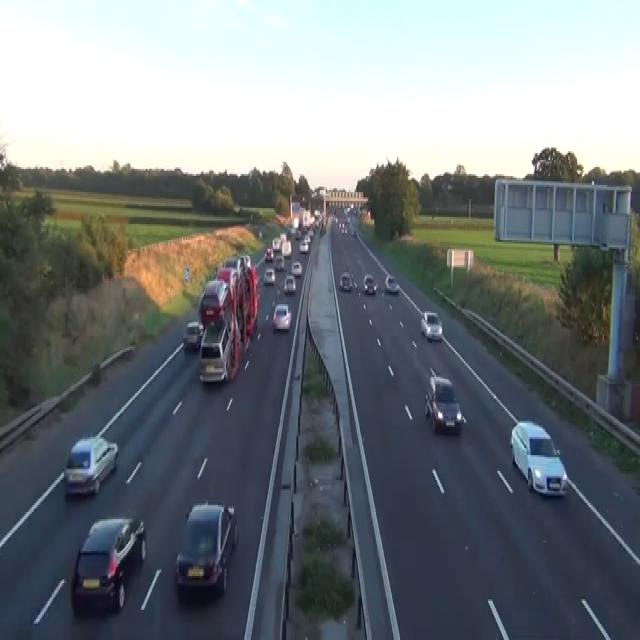Car: (71, 516, 146, 614), (175, 500, 238, 596), (509, 420, 567, 498), (63, 434, 119, 496), (424, 375, 466, 436), (198, 315, 232, 382), (198, 277, 229, 327), (424, 373, 452, 418), (420, 311, 442, 341), (183, 320, 203, 350), (272, 304, 291, 331), (216, 266, 235, 284), (384, 274, 399, 293), (363, 274, 377, 293), (283, 274, 296, 293), (237, 254, 251, 270), (339, 272, 351, 290), (263, 266, 275, 284), (281, 240, 292, 258), (91, 361, 100, 382), (290, 262, 302, 276), (223, 256, 237, 268), (123, 345, 135, 359), (275, 254, 284, 270), (271, 237, 281, 250), (264, 247, 273, 261), (299, 240, 308, 252), (319, 222, 326, 235), (302, 233, 310, 242), (294, 228, 300, 238), (280, 233, 286, 242), (341, 226, 347, 233), (351, 228, 356, 235), (258, 230, 262, 238)
Truck: (198, 254, 258, 384)
